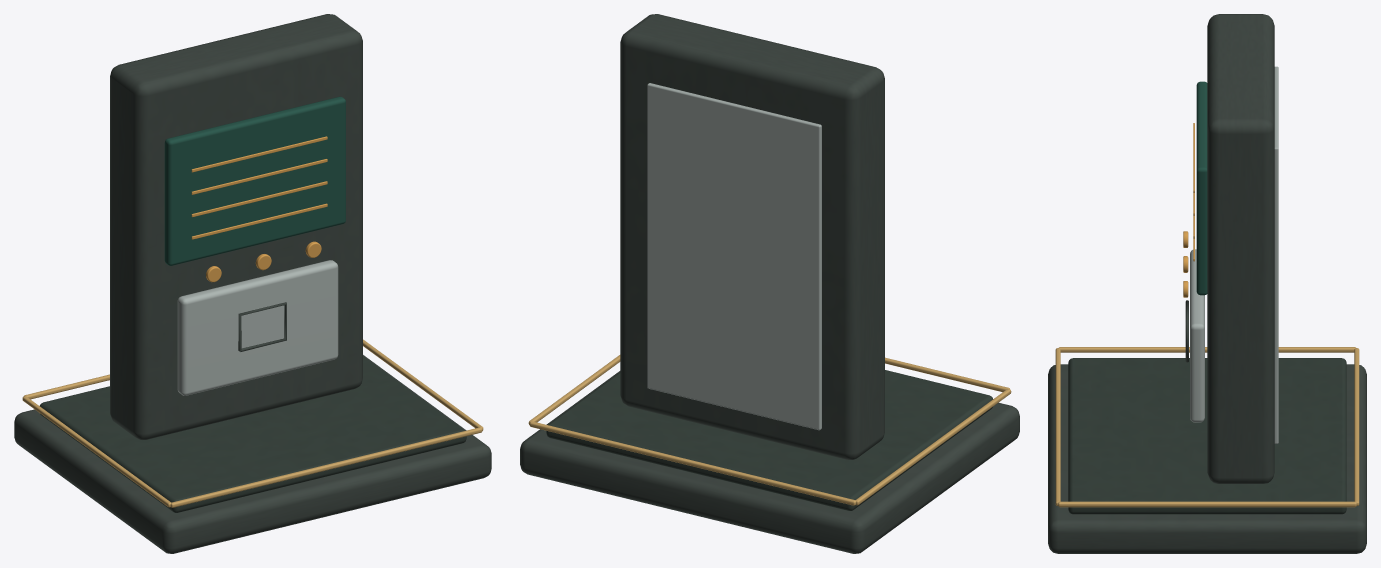
The model's file is access-console.glb.
3 views of the same model, side by side, from view 1: azimuth 30°, elevation 25°; view 2: azimuth 150°, elevation 25°; view 3: azimuth 270°, elevation 25° (orthographic). The views are drawn at different scales.
Visible parts, largest first — view 1: console_housing, felt_insert, mode_screen, display_base, card_reader, brass_rim_Front, brass_rim_Left, brass_rim_Right; view 2: approval_panel, console_housing, display_base, felt_insert, brass_rim_Back, brass_rim_Left, brass_rim_Front, brass_rim_Right; view 3: felt_insert, console_housing, display_base, mode_screen, card_reader, brass_rim_Right, approval_panel, brass_rim_Left, brass_rim_Back, brass_rim_Front.
Part boxes in pixels (x1,y1,x2,y2): console_housing: (110, 14, 362, 439); felt_insert: (40, 356, 466, 512); mode_screen: (164, 96, 345, 265); display_base: (14, 355, 491, 553); card_reader: (177, 260, 338, 395); brass_rim_Front: (170, 427, 482, 507); brass_rim_Left: (22, 396, 171, 507); brass_rim_Right: (363, 339, 483, 430); approval_panel: (647, 83, 821, 430); console_housing: (620, 14, 884, 459); display_base: (520, 371, 1019, 553); felt_insert: (546, 370, 992, 510); brass_rim_Back: (529, 421, 855, 505); brass_rim_Left: (855, 389, 1011, 505); brass_rim_Front: (885, 357, 1009, 392); brass_rim_Right: (528, 355, 620, 424); felt_insert: (1068, 358, 1346, 514); console_housing: (1207, 14, 1274, 483); display_base: (1048, 364, 1366, 553); mode_screen: (1196, 81, 1207, 295); card_reader: (1190, 249, 1204, 422); brass_rim_Right: (1058, 501, 1356, 507); approval_panel: (1274, 66, 1278, 443); brass_rim_Left: (1059, 347, 1355, 352); brass_rim_Back: (1354, 348, 1359, 505); brass_rim_Front: (1055, 348, 1060, 505).
Bounding box in the file's own units: 0.23 × 0.269 × 0.19.
6 materials, 2 textured.
